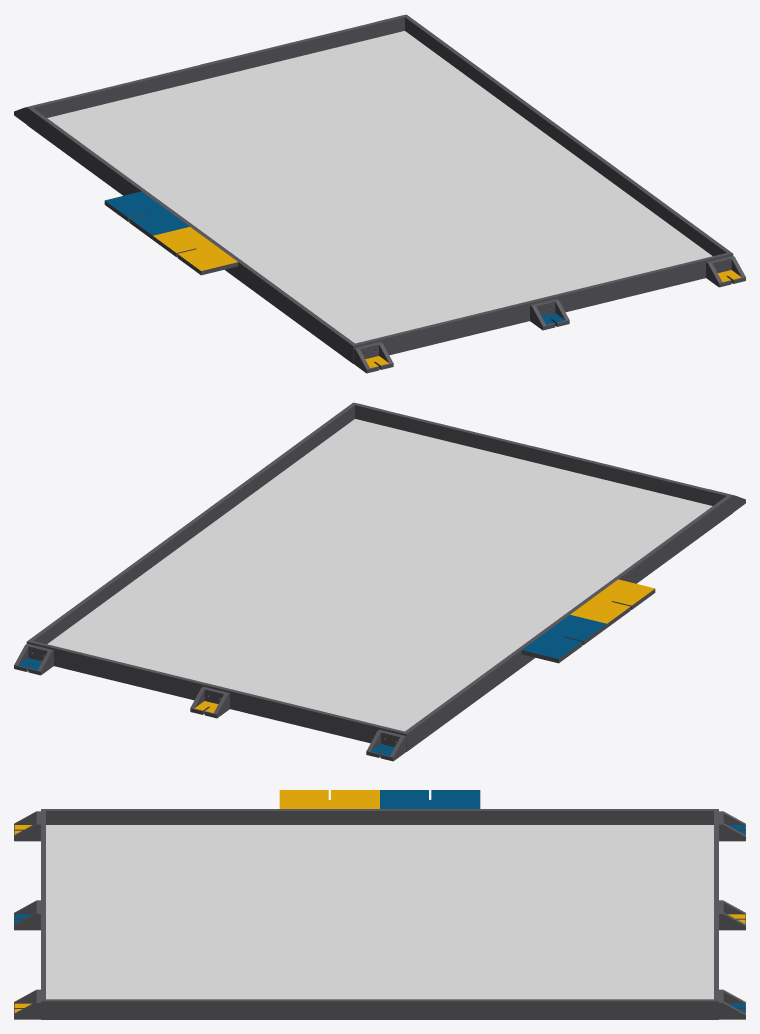
The model's file is Table.fbx.
3 views of the same model, one above another, from view 1: azimuth 30°, elevation 25°; view 2: azimuth 150°, elevation 25°; view 3: azimuth 270°, elevation 25° (orthographic). The views are drawn at different scales.
Parts seen in each view (by area): view 1: Table; view 2: Table; view 3: Table.
Boxes of the visible parts, left/top/right/bottom form: Table: left=14, top=14, right=745, bottom=373; Table: left=14, top=402, right=745, bottom=761; Table: left=14, top=790, right=745, bottom=1019.
Bounding box in the file's own units: 224 × 9.2 × 329.
